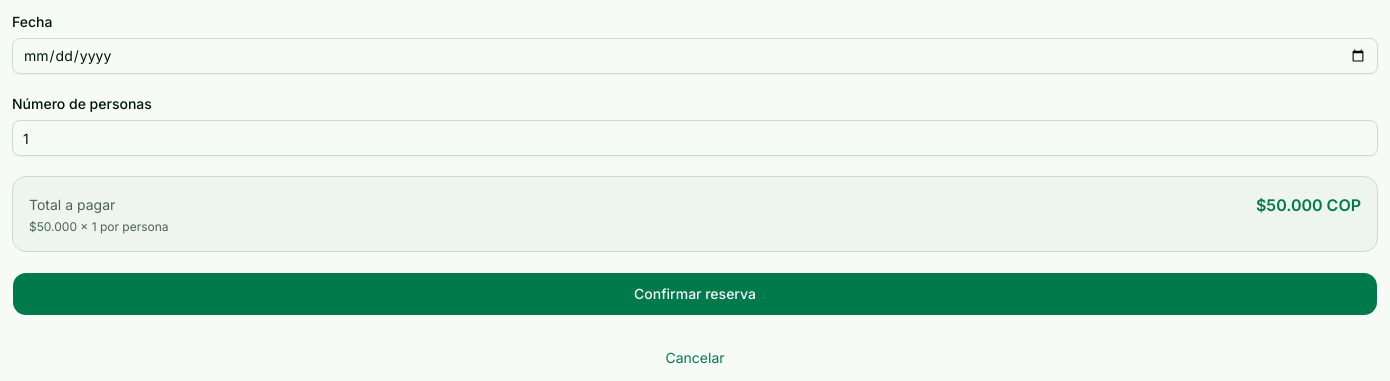
Scenario: BookingForm › disables the submit button and shows the pending label while the action is in flight
Click the button "Confirmar reserva" at (695, 294), box [12,272,1378,316]
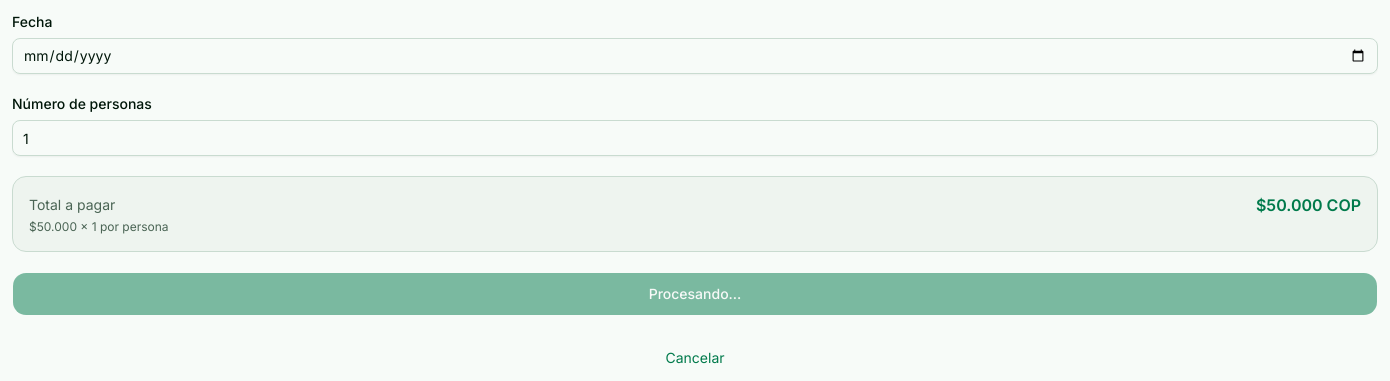
Now the button "Procesando..." is disabled, box [12,272,1378,316]
